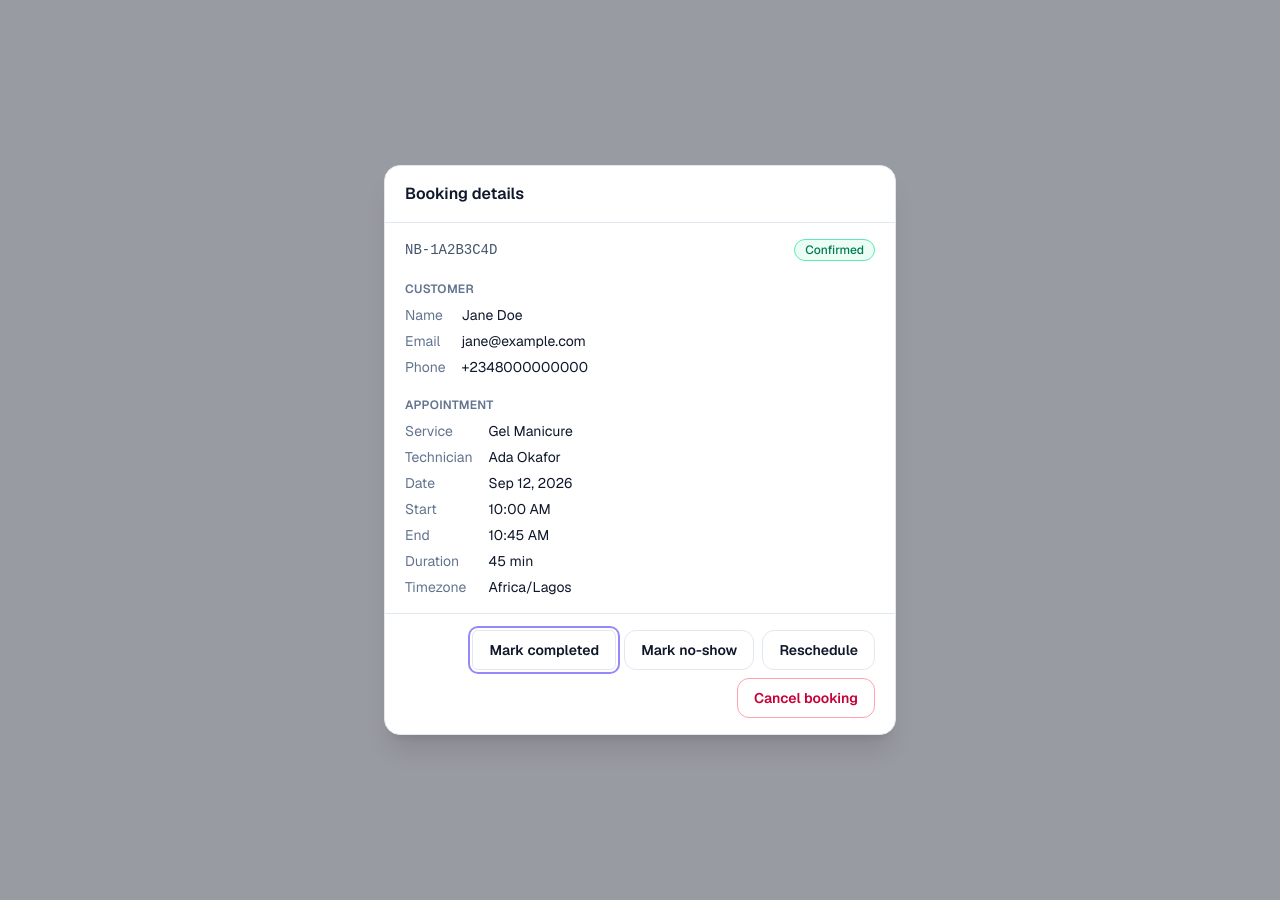
Test case: BookingDetailDialog — reschedule permission (S12-BE) › closes the reschedule dialog after a successful reschedule
Click the button "Reschedule" at (819, 650), box [762,630,875,670]
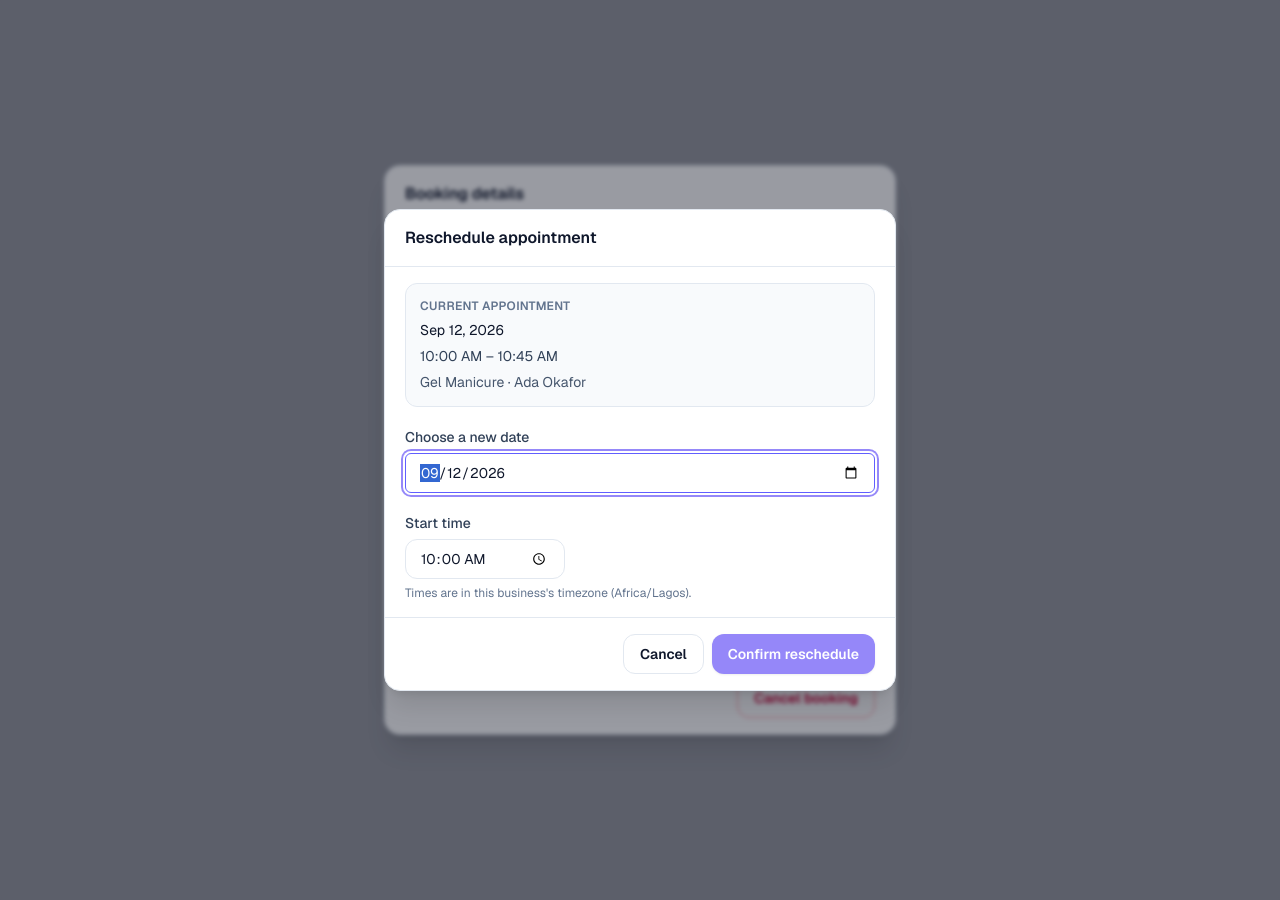
Type "2026-09-27" into the date field labelled "Choose a new date" at (640, 473), box [405,453,875,493]
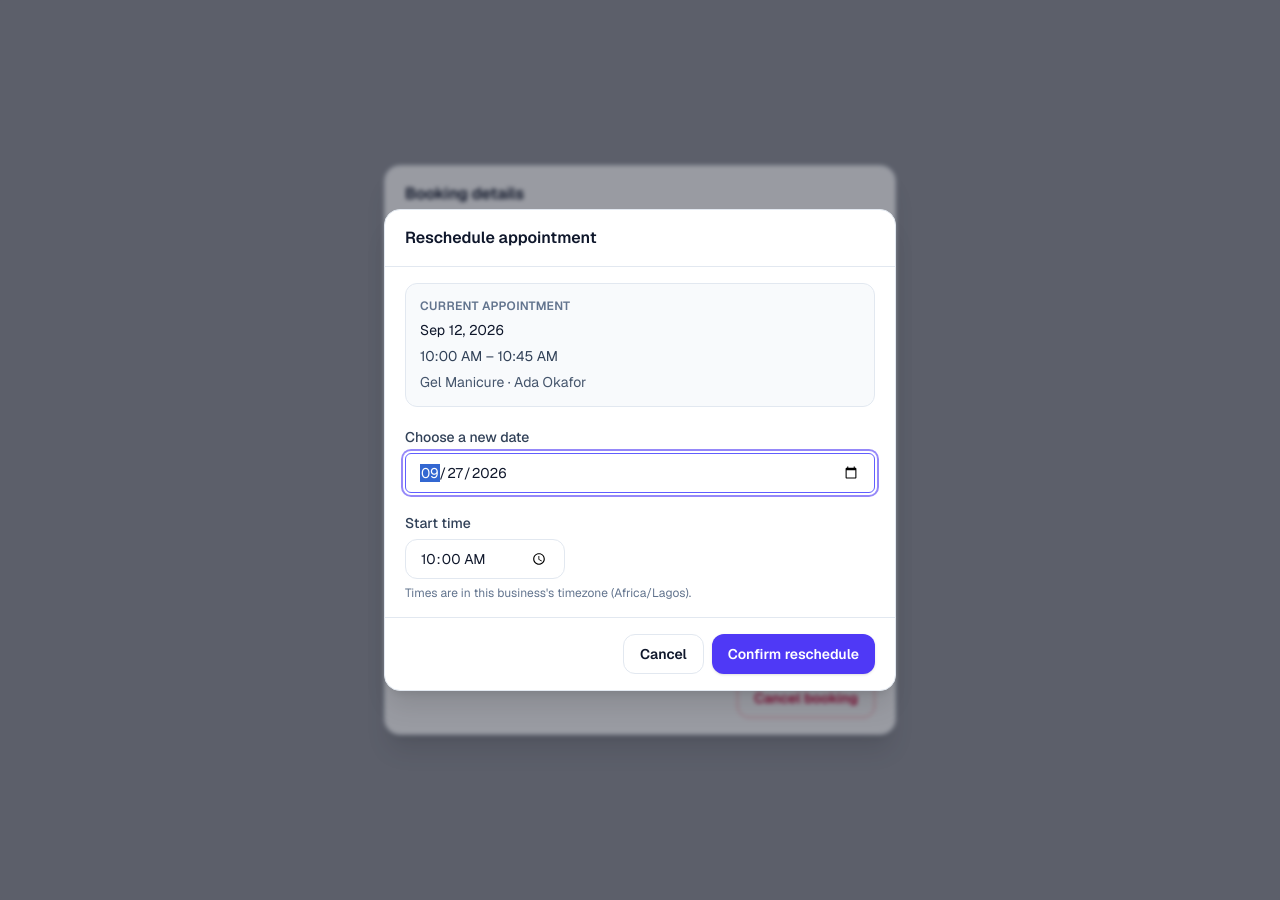
Click the button "Confirm reschedule" at (793, 654), box [712,634,875,674]
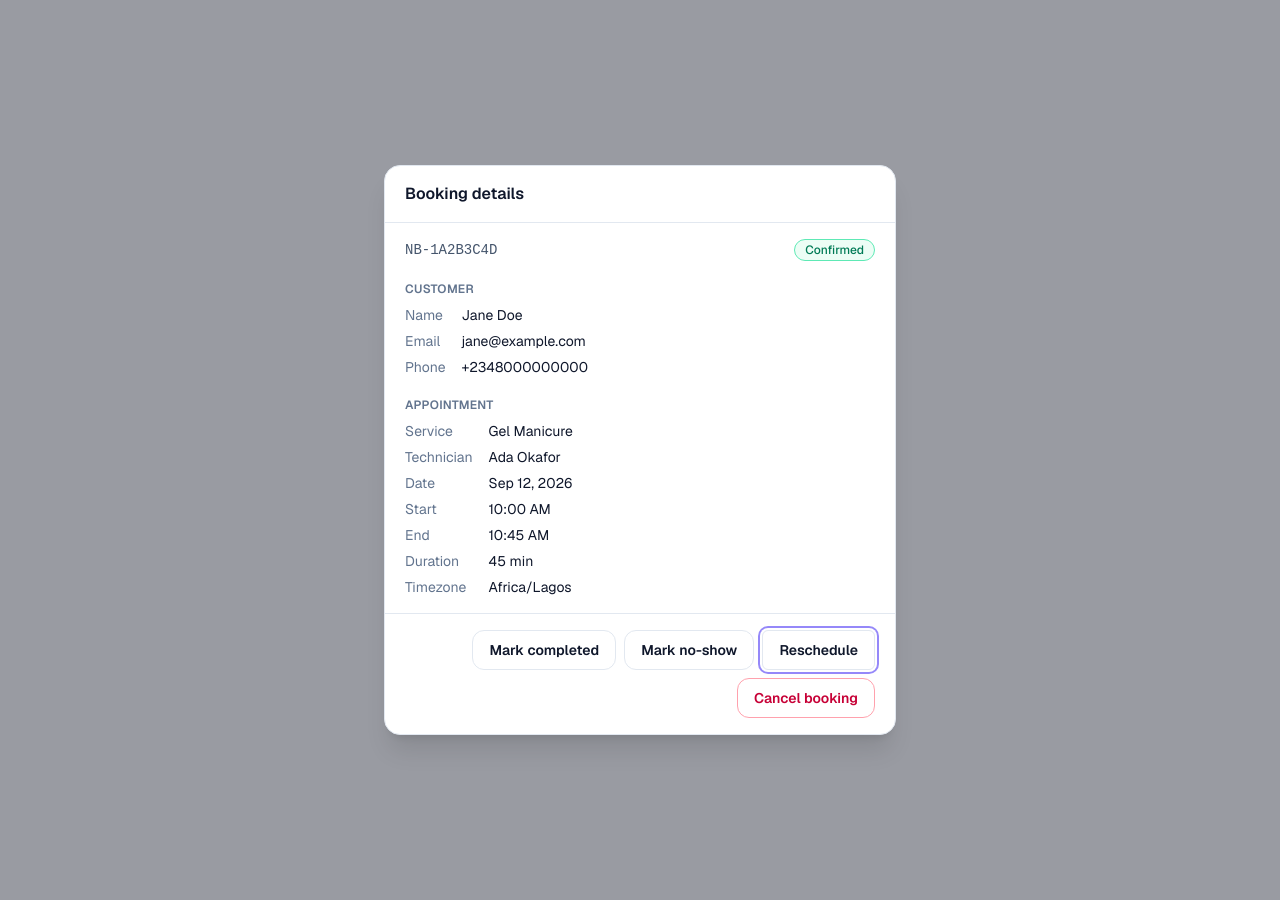
Expected: the dialog "Booking details" is shown, [384,165,896,735]
Now the heading "Reschedule appointment" is gone
